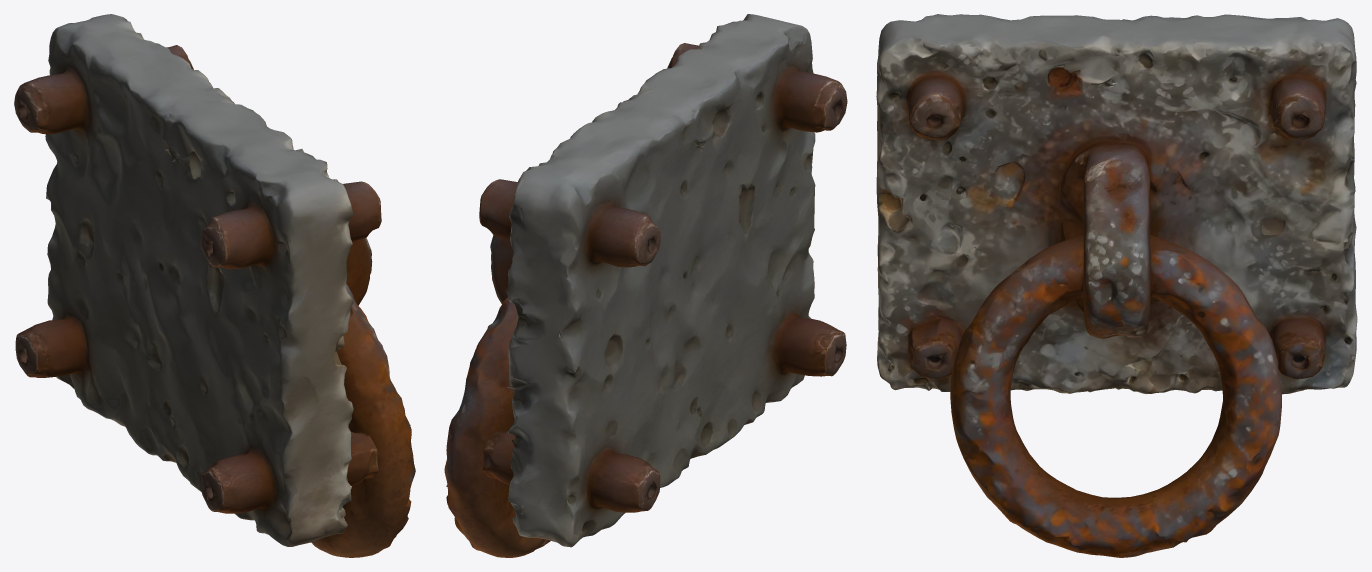
File: ring.glb
The picture shows the model from 3 angles, left to right: view 1: azimuth 30°, elevation 25°; view 2: azimuth 150°, elevation 25°; view 3: azimuth 270°, elevation 25°; orthographic projection. The views are drawn at different scales.
Visible parts, largest first — view 1: tripo_node_bb023762-d101-4c76-9a2a-21cd6902904a; view 2: tripo_node_bb023762-d101-4c76-9a2a-21cd6902904a; view 3: tripo_node_bb023762-d101-4c76-9a2a-21cd6902904a.
Part boxes in pixels (left/top/right/bottom): tripo_node_bb023762-d101-4c76-9a2a-21cd6902904a: left=14, top=14, right=415, bottom=557; tripo_node_bb023762-d101-4c76-9a2a-21cd6902904a: left=444, top=14, right=847, bottom=557; tripo_node_bb023762-d101-4c76-9a2a-21cd6902904a: left=876, top=14, right=1357, bottom=557.
Bounding box in the file's own units: 0.5347 × 1 × 0.9344.
Materials: 1 (1 with a texture image).
